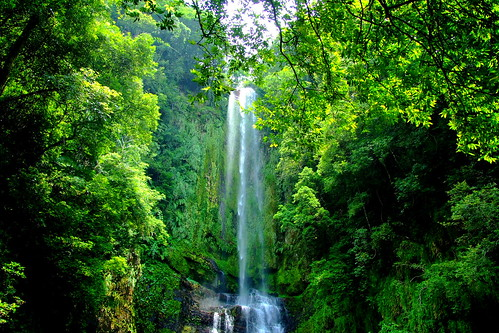wufengciWaterfall: (191, 83, 310, 327)
